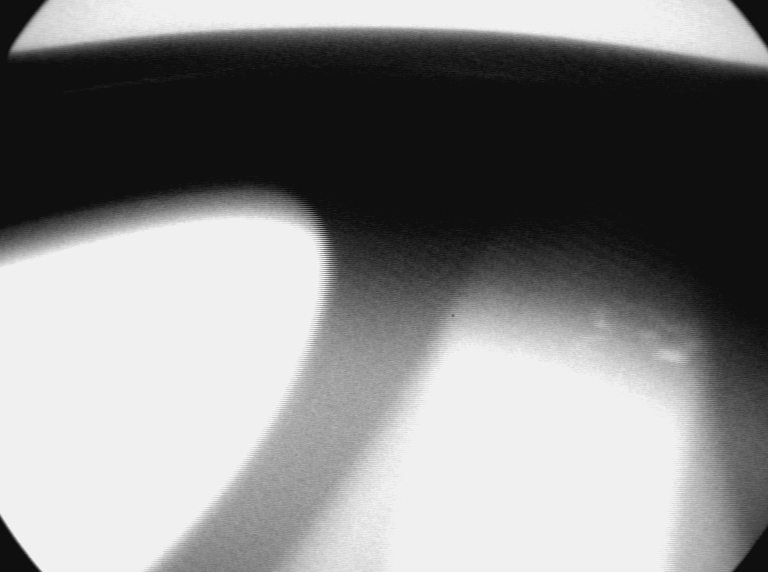defect: (565, 330, 602, 363)
